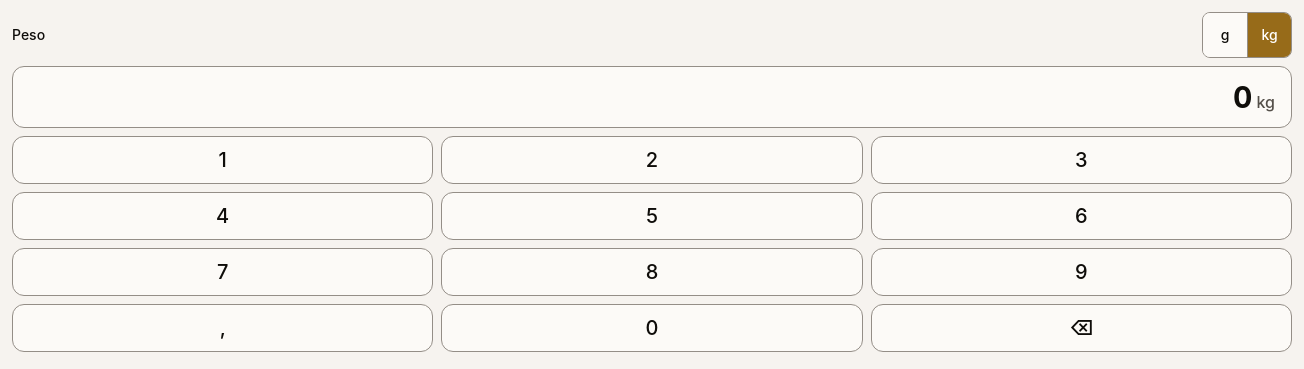
Test: TecladoPeso › arma el peso en kg tocando dígitos y coma
Click the button "1": (223, 160) [12,136,433,184]
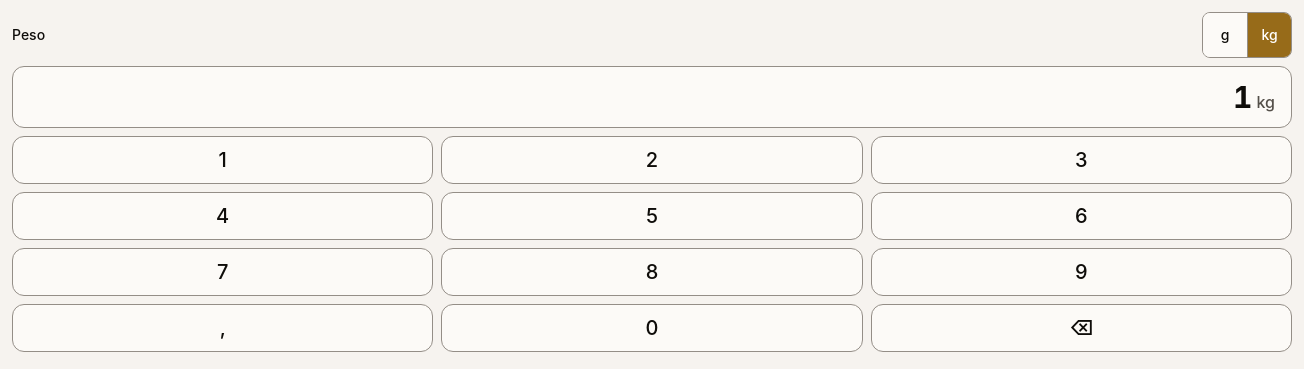
Click the button named "Coma decimal": (223, 328) [12,304,433,352]
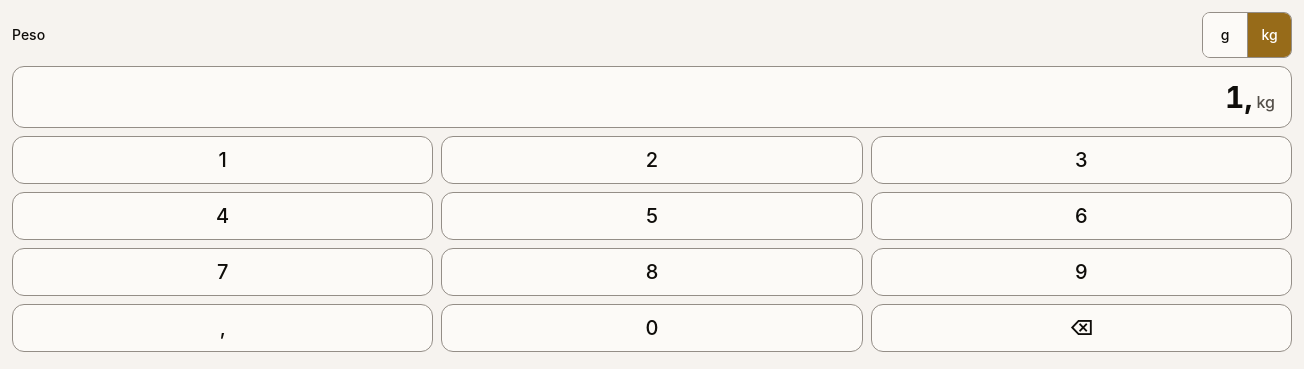
Click the button "2": (652, 160) [441,136,863,184]
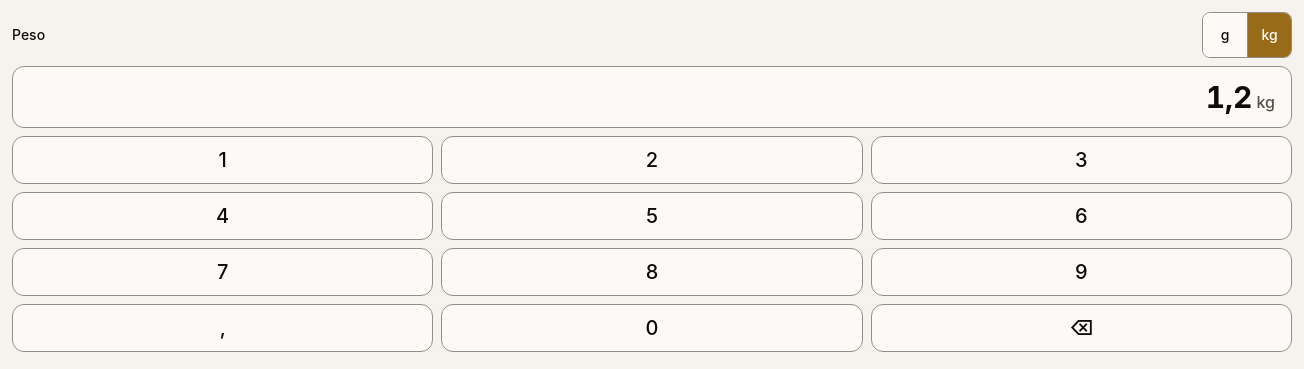
Click the button "5": (652, 216) [441,192,863,240]
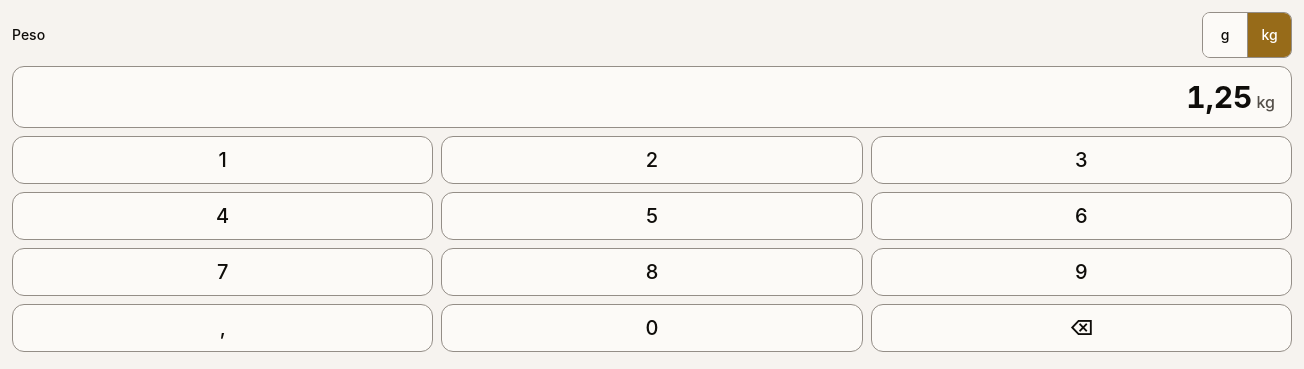
Check: the field reads "1,25kg", box [12,66,1292,128]
